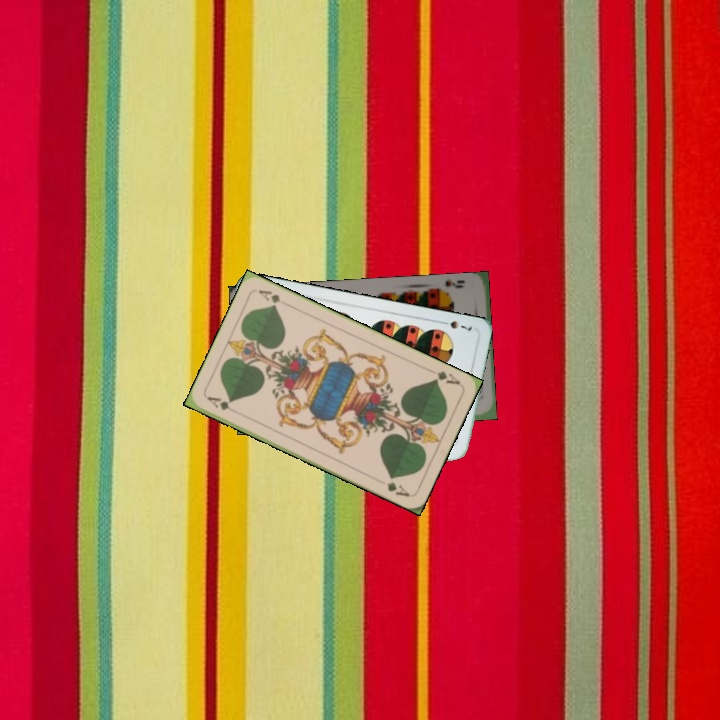GA: (203, 392, 241, 416), (425, 365, 463, 387)
S7: (436, 317, 475, 333)
S9: (432, 276, 467, 297)
